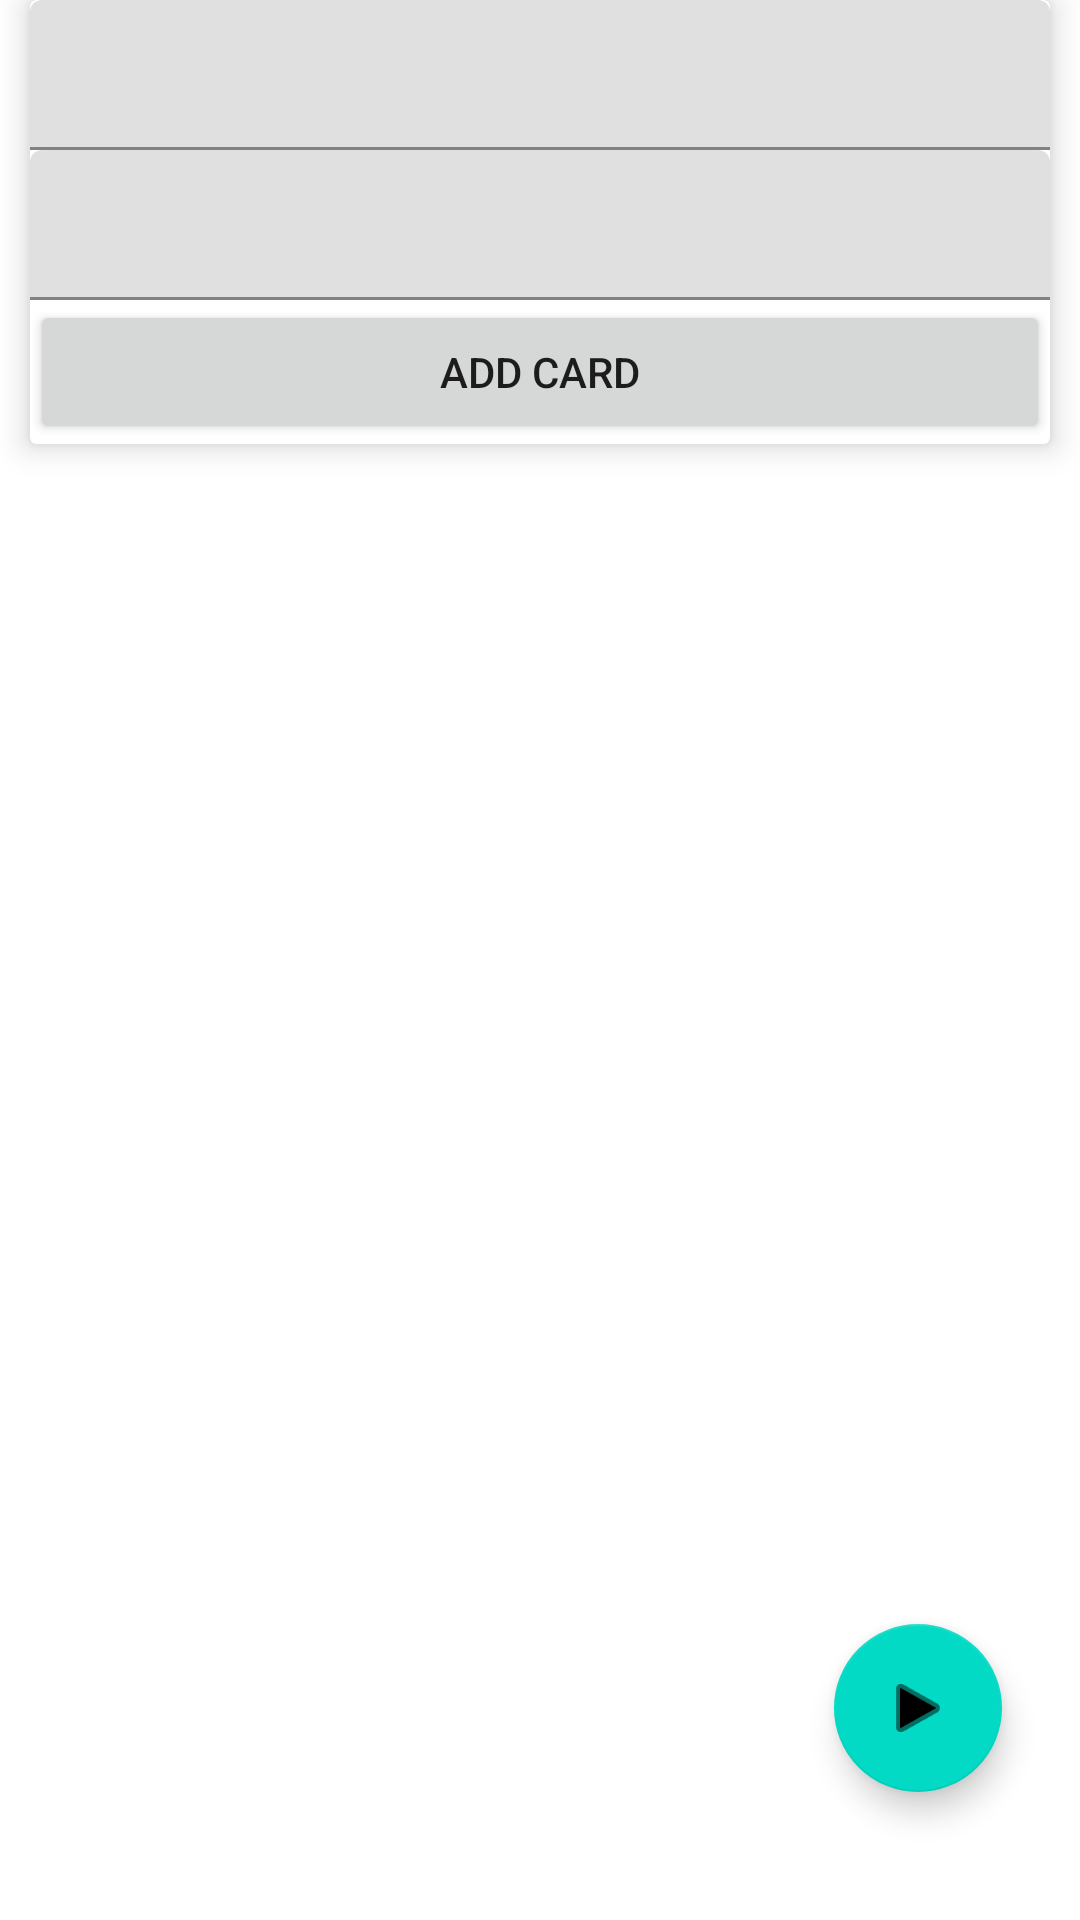

Icons on this 1080px x 1920px Android screen, each with its box as (x1, y1, x2, y2):
play: (834, 1624, 1002, 1792)
